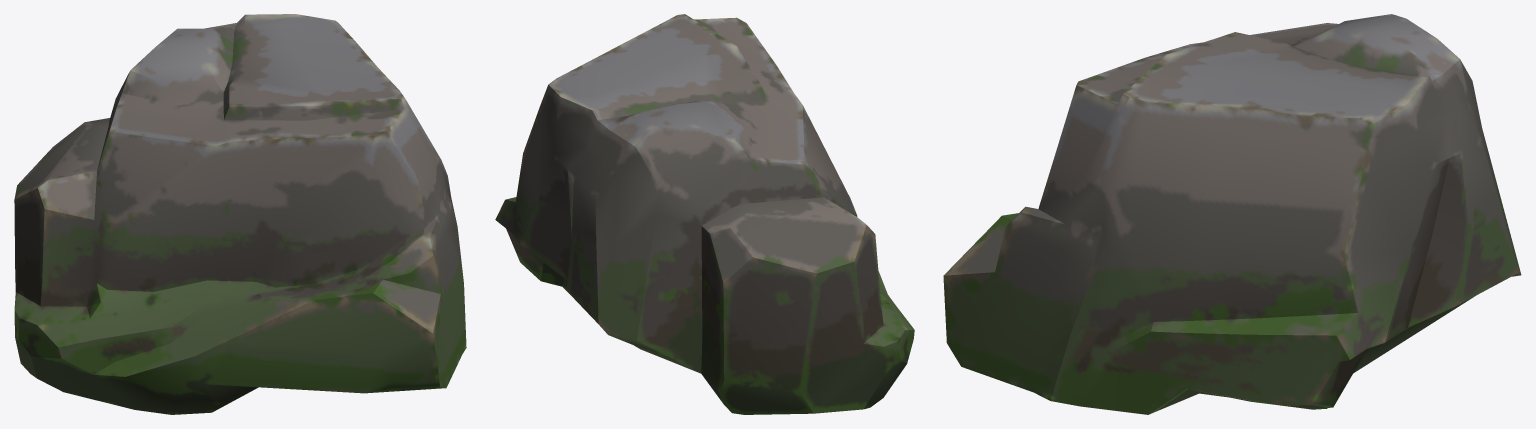
The model's file is Rock_Medium_3__go_ruins.glb.
The picture shows the model from 3 angles, left to right: view 1: azimuth 30°, elevation 25°; view 2: azimuth 150°, elevation 25°; view 3: azimuth 270°, elevation 25°; orthographic projection. The views are drawn at different scales.
Parts seen in each view (by area): view 1: Rock_Medium_3; view 2: Rock_Medium_3; view 3: Rock_Medium_3.
Boxes of the visible parts, x1,y1,x2,y2 form: Rock_Medium_3: (14,14,466,414); Rock_Medium_3: (495,14,914,414); Rock_Medium_3: (943,14,1521,414).
Bounding box in the file's own units: 3.42 × 2.32 × 3.48.
Materials: 1 (1 with a texture image).
